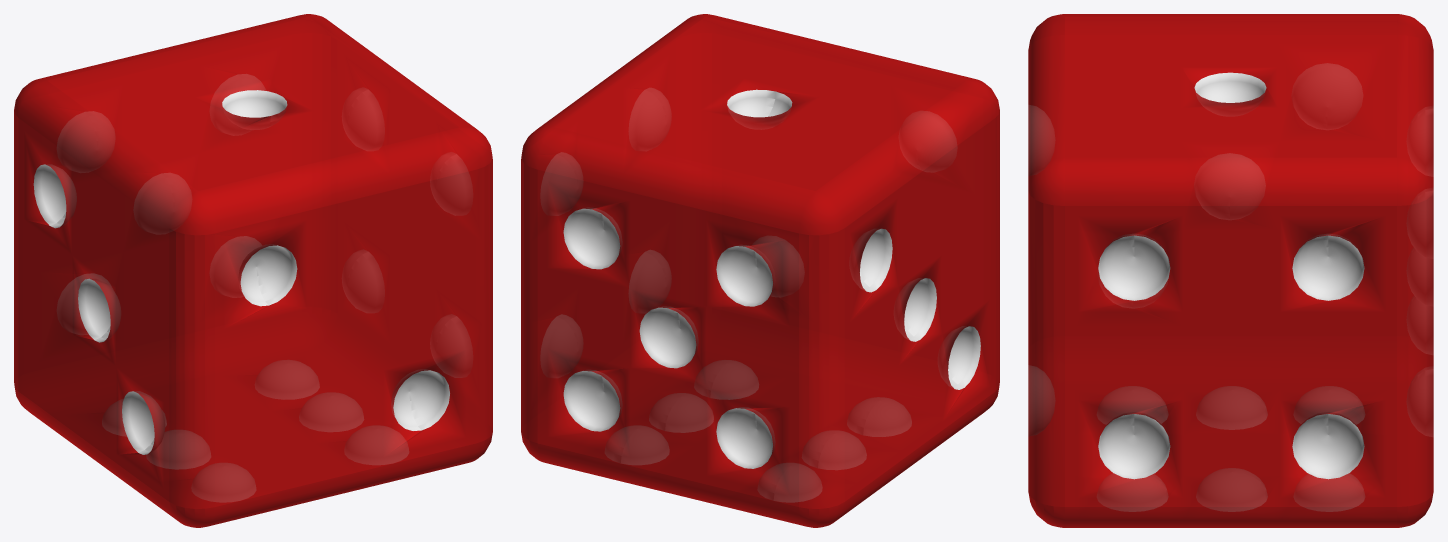
File: d6_pipped_square.fbx
3 views of the same model, side by side, from view 1: azimuth 30°, elevation 25°; view 2: azimuth 150°, elevation 25°; view 3: azimuth 270°, elevation 25° (orthographic). The views are drawn at different scales.
Parts seen in each view (by area): view 1: 6_Sided_Do; view 2: 6_Sided_Do; view 3: 6_Sided_Do.
Part boxes in pixels (x1,y1,x2,y2): 6_Sided_Do: [14, 14, 492, 527]; 6_Sided_Do: [521, 14, 999, 527]; 6_Sided_Do: [1028, 14, 1433, 527].
Size of the model in its own units: 8.34 by 8.34 by 8.34.
